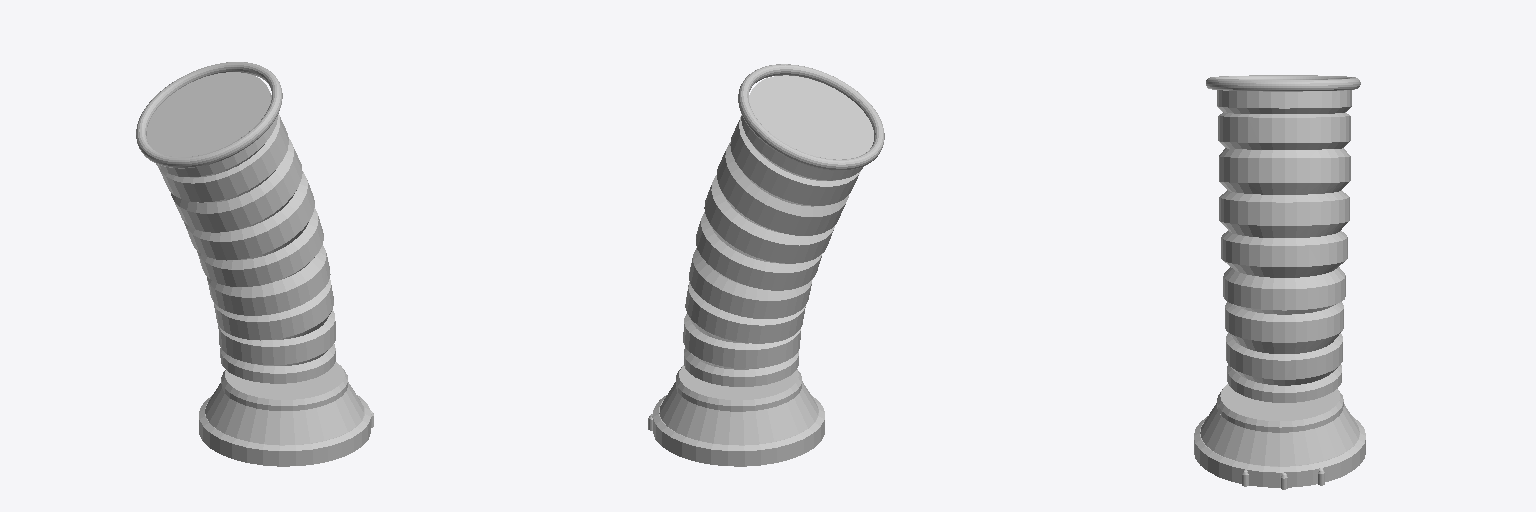
File: pata_frontal_derecha.obj
The picture shows the model from 3 angles: view 1: azimuth 30°, elevation 25°; view 2: azimuth 150°, elevation 25°; view 3: azimuth 270°, elevation 25°; orthographic projection.
Visible parts, largest first — view 1: C_rculo_006_C_rculo_007, C_rculo_012_C_rculo_013, C_rculo_011_C_rculo_012, C_rculo_001, C_rculo_013_C_rculo_014; view 2: C_rculo_006_C_rculo_007, C_rculo_012_C_rculo_013, C_rculo_011_C_rculo_012, C_rculo_001, C_rculo_013_C_rculo_014; view 3: C_rculo_006_C_rculo_007, C_rculo_012_C_rculo_013, C_rculo_011_C_rculo_012, C_rculo_013_C_rculo_014, C_rculo_001.
Boxes of the visible parts, <box> form: C_rculo_006_C_rculo_007: <box>147,72,335,383</box>; C_rculo_012_C_rculo_013: <box>205,382,363,444</box>; C_rculo_011_C_rculo_012: <box>199,395,370,466</box>; C_rculo_001: <box>136,62,282,168</box>; C_rculo_013_C_rculo_014: <box>221,362,347,410</box>; C_rculo_006_C_rculo_007: <box>683,75,873,386</box>; C_rculo_012_C_rculo_013: <box>659,381,818,444</box>; C_rculo_011_C_rculo_012: <box>653,395,824,466</box>; C_rculo_001: <box>738,64,884,170</box>; C_rculo_013_C_rculo_014: <box>676,365,801,411</box>; C_rculo_006_C_rculo_007: <box>1217,90,1351,402</box>; C_rculo_012_C_rculo_013: <box>1200,403,1359,466</box>; C_rculo_011_C_rculo_012: <box>1194,416,1365,487</box>; C_rculo_013_C_rculo_014: <box>1217,384,1343,432</box>; C_rculo_001: <box>1206,75,1360,91</box>.
Bounding box in the file's own units: 1.48 × 2.39 × 1.03.